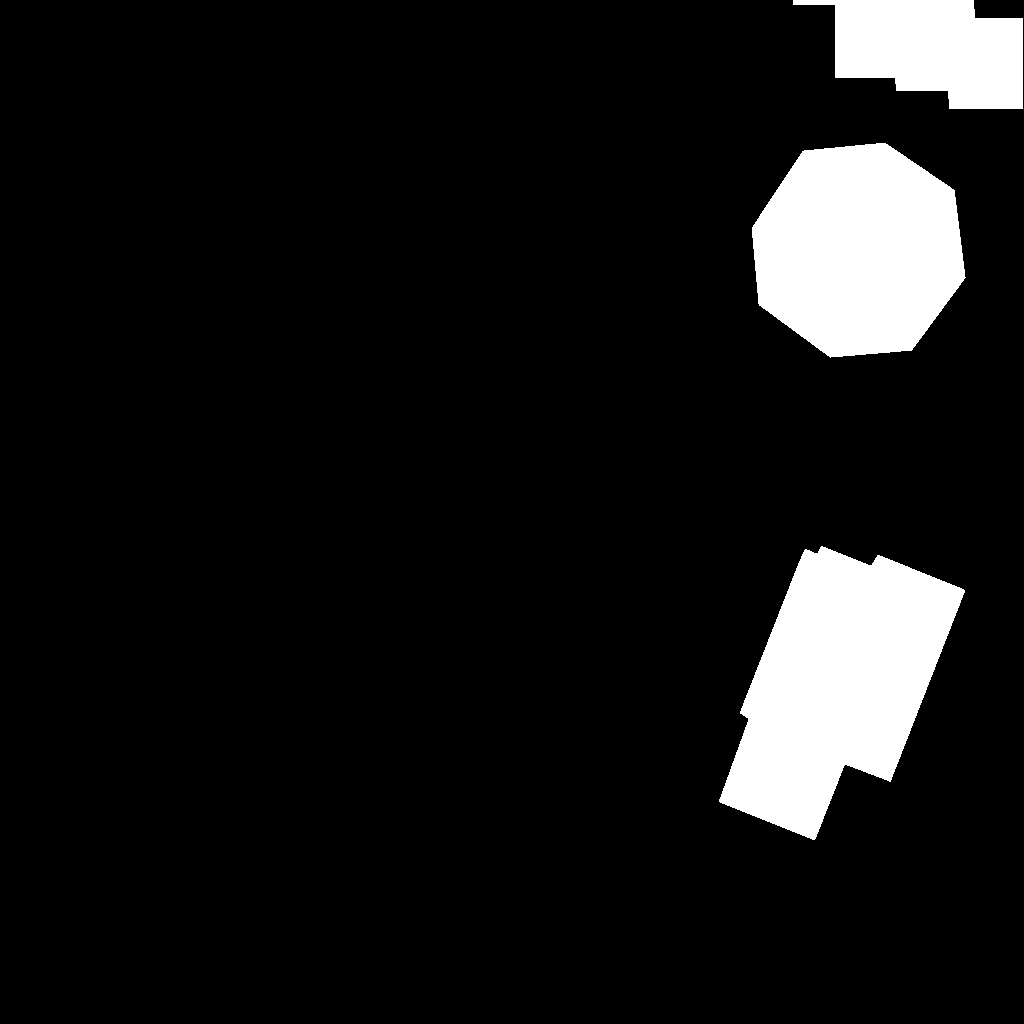building: (719, 546, 966, 841), (752, 143, 966, 358), (793, 0, 1024, 109)
